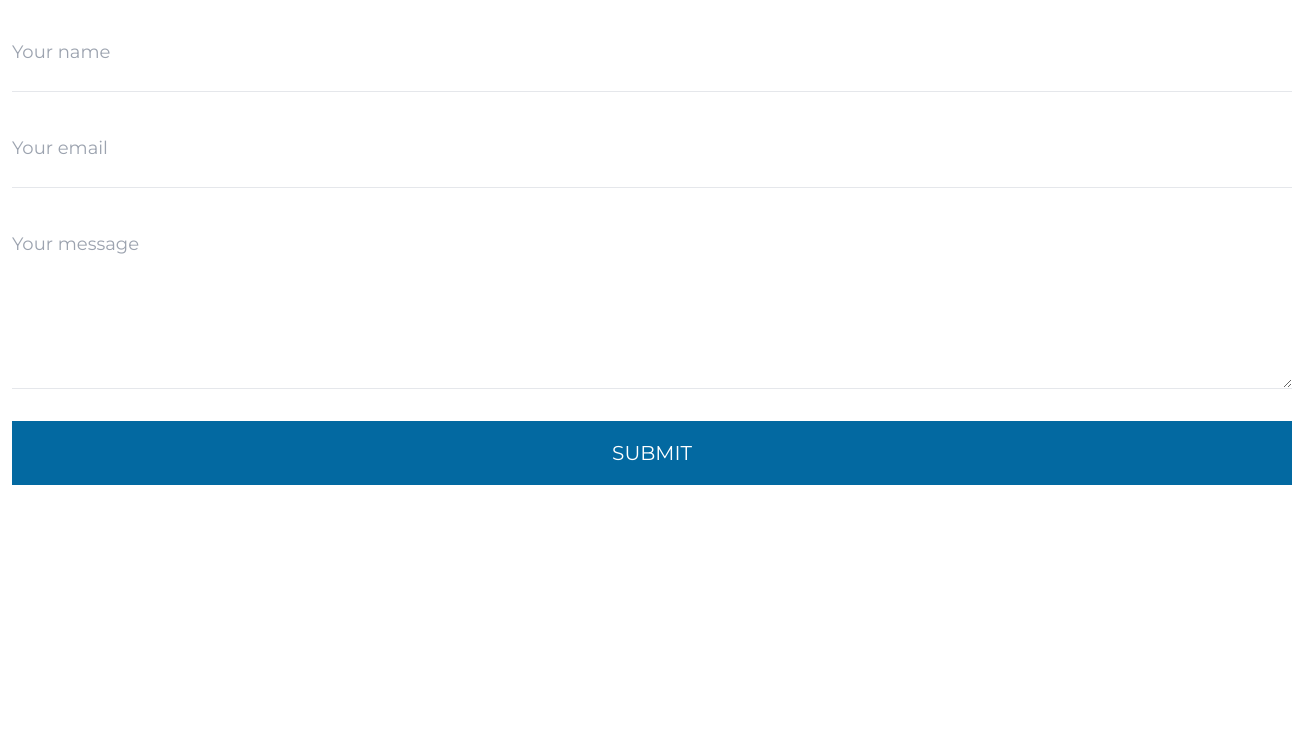
Test case: ContactSection › should display min length error when name is invalid
In the field labelled "name": (652, 52) [12,12,1292,92], type "n"
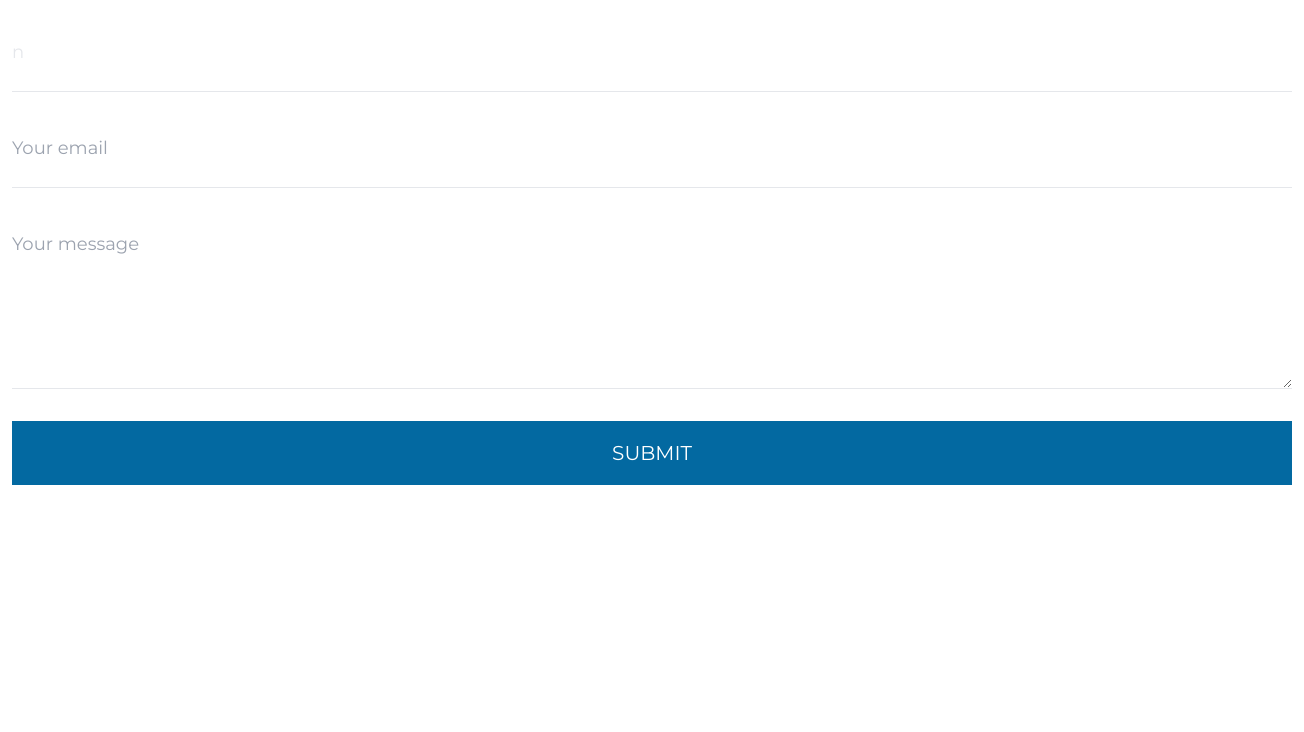
In the field labelled "email": (652, 148) [12,108,1292,188], type "test@mail.com"
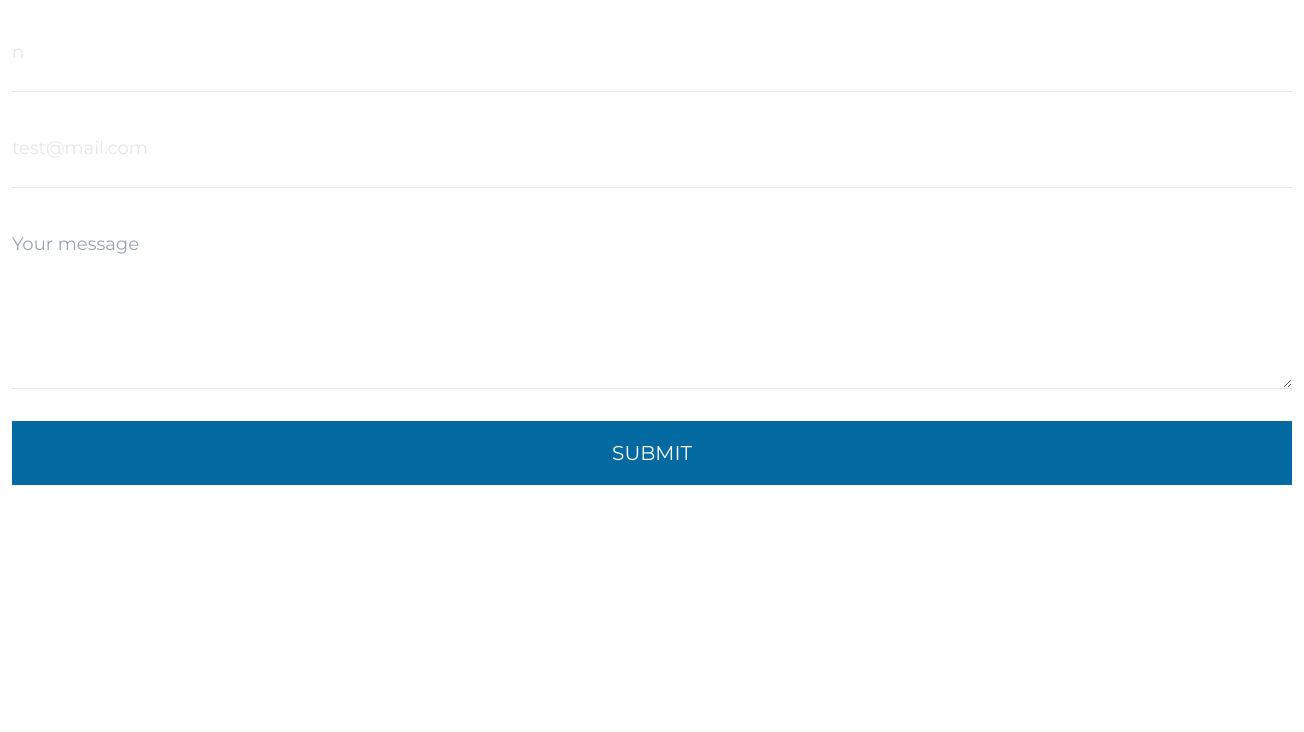
In the text box labelled "message": (652, 308) [12,228,1292,389], type "message"
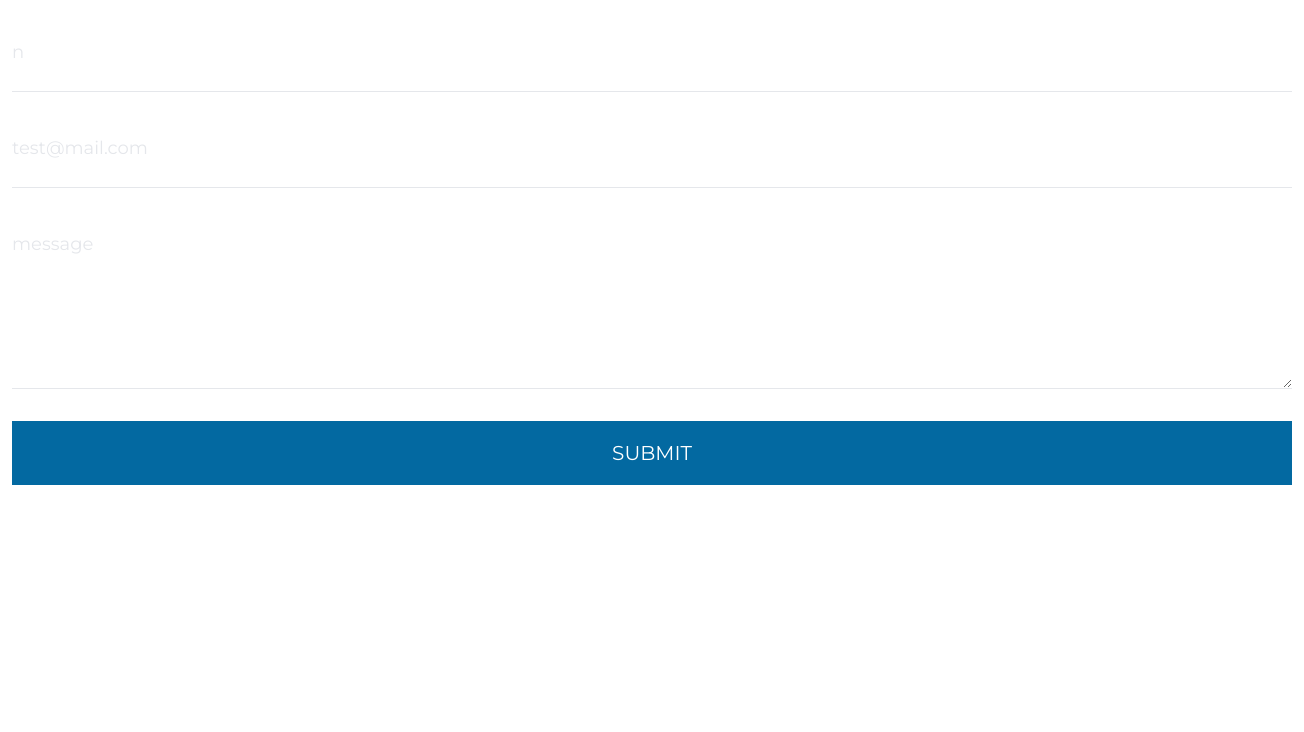
Submit the form from the button, box [12,421,1292,485]
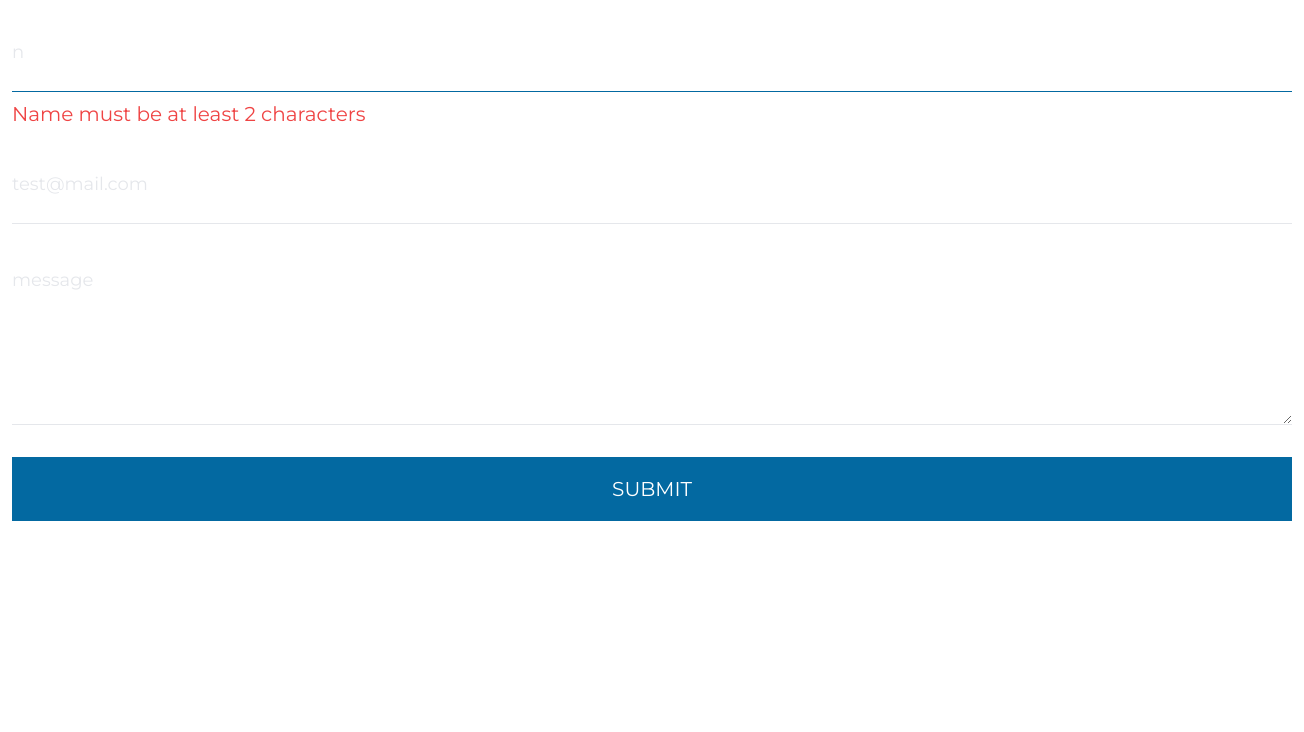
Now the number of messages is 1, box [12,102,366,126]
